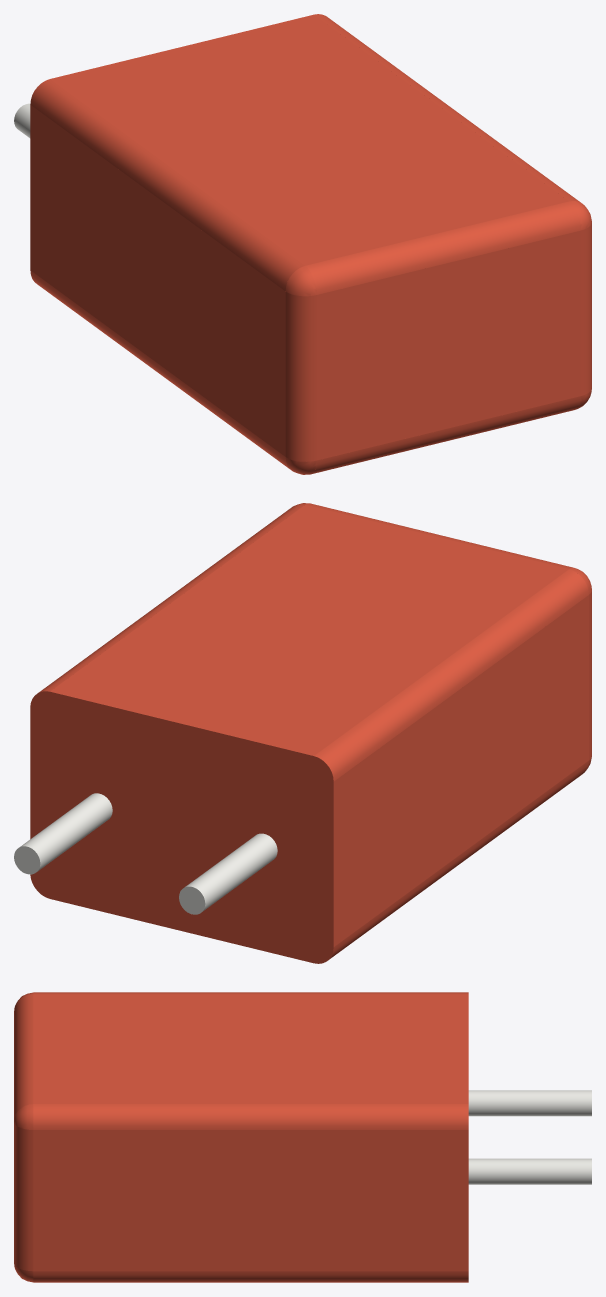
File: C_Rect_L4.6mm_W3.0mm_P2.50mm_MKS02_FKP02.glb
3 views of the same model, one above another, from view 1: azimuth 30°, elevation 25°; view 2: azimuth 150°, elevation 25°; view 3: azimuth 270°, elevation 25° (orthographic). The views are drawn at different scales.
Parts seen in each view (by area): view 1: Shape_IndexedFaceSet.009, Shape_IndexedFaceSet.008, Shape_IndexedFaceSet, Shape_IndexedFaceSet.004, Shape_IndexedFaceSet.016, Shape_IndexedFaceSet.002, Shape_IndexedFaceSet.015, Shape_IndexedFaceSet.001, Shape_IndexedFaceSet.011, Shape_IndexedFaceSet.017, Shape_IndexedFaceSet.007; view 2: Shape_IndexedFaceSet.009, Shape_IndexedFaceSet.003, Shape_IndexedFaceSet, Shape_IndexedFaceSet.004, Shape_IndexedFaceSet.014, Shape_IndexedFaceSet.013, Shape_IndexedFaceSet.001, Shape_IndexedFaceSet.011, Shape_IndexedFaceSet.016, Shape_IndexedFaceSet.021; view 3: Shape_IndexedFaceSet.012, Shape_IndexedFaceSet.009, Shape_IndexedFaceSet.011, Shape_IndexedFaceSet.010, Shape_IndexedFaceSet.013, Shape_IndexedFaceSet.014, Shape_IndexedFaceSet.017, Shape_IndexedFaceSet.016, Shape_IndexedFaceSet.004, Shape_IndexedFaceSet.019.
Boxes of the visible parts, left/top/right/bottom form: Shape_IndexedFaceSet.009: left=50, top=14, right=568, bottom=265; Shape_IndexedFaceSet.008: left=316, top=230, right=580, bottom=460; Shape_IndexedFaceSet: left=30, top=105, right=285, bottom=456; Shape_IndexedFaceSet.004: left=30, top=79, right=304, bottom=290; Shape_IndexedFaceSet.016: left=305, top=201, right=580, bottom=294; Shape_IndexedFaceSet.002: left=285, top=292, right=316, bottom=461; Shape_IndexedFaceSet.015: left=311, top=396, right=580, bottom=474; Shape_IndexedFaceSet.001: left=30, top=270, right=289, bottom=468; Shape_IndexedFaceSet.011: left=314, top=14, right=580, bottom=202; Shape_IndexedFaceSet.017: left=580, top=223, right=591, bottom=395; Shape_IndexedFaceSet.007: left=285, top=266, right=316, bottom=296; Shape_IndexedFaceSet.009: left=50, top=505, right=568, bottom=755; Shape_IndexedFaceSet.003: left=30, top=691, right=333, bottom=963; Shape_IndexedFaceSet: left=333, top=595, right=588, bottom=946; Shape_IndexedFaceSet.004: left=314, top=569, right=588, bottom=781; Shape_IndexedFaceSet.014: left=20, top=793, right=112, bottom=871; Shape_IndexedFaceSet.013: left=185, top=833, right=277, bottom=910; Shape_IndexedFaceSet.001: left=328, top=760, right=588, bottom=960; Shape_IndexedFaceSet.011: left=38, top=504, right=304, bottom=692; Shape_IndexedFaceSet.016: left=305, top=503, right=572, bottom=568; Shape_IndexedFaceSet.021: left=14, top=846, right=40, bottom=874; Shape_IndexedFaceSet.012: left=33, top=1130, right=468, bottom=1271; Shape_IndexedFaceSet.009: left=33, top=994, right=468, bottom=1103; Shape_IndexedFaceSet.011: left=33, top=1104, right=468, bottom=1129; Shape_IndexedFaceSet.010: left=33, top=1271, right=468, bottom=1282; Shape_IndexedFaceSet.013: left=468, top=1090, right=591, bottom=1116; Shape_IndexedFaceSet.014: left=468, top=1158, right=591, bottom=1184; Shape_IndexedFaceSet.017: left=14, top=1122, right=33, bottom=1271; Shape_IndexedFaceSet.016: left=14, top=994, right=33, bottom=1120; Shape_IndexedFaceSet.004: left=33, top=992, right=468, bottom=994; Shape_IndexedFaceSet.019: left=14, top=1104, right=33, bottom=1129.
Bounding box in the file's own units: 1.81 × 1.18 × 3.5.
